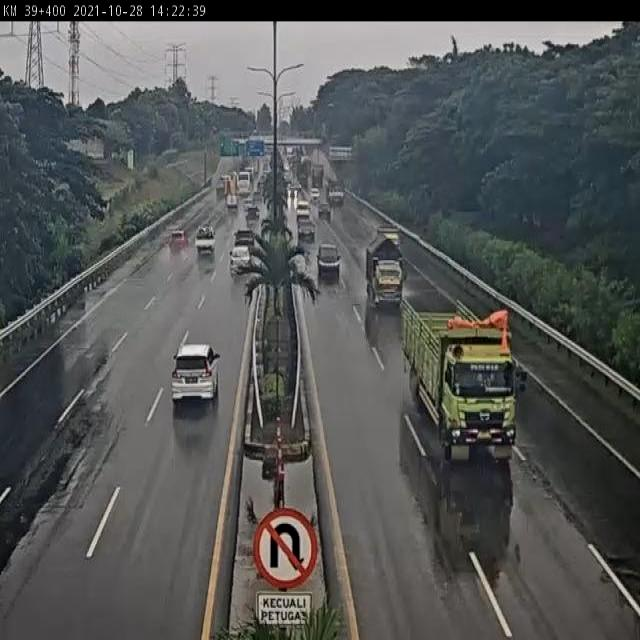Car: (171, 340, 221, 407), (314, 243, 343, 279), (228, 242, 253, 275), (296, 220, 319, 242), (168, 231, 187, 254), (244, 204, 262, 225), (319, 204, 331, 218)
Truck: (400, 294, 529, 463), (366, 231, 406, 310), (194, 223, 217, 256), (326, 178, 348, 205)
